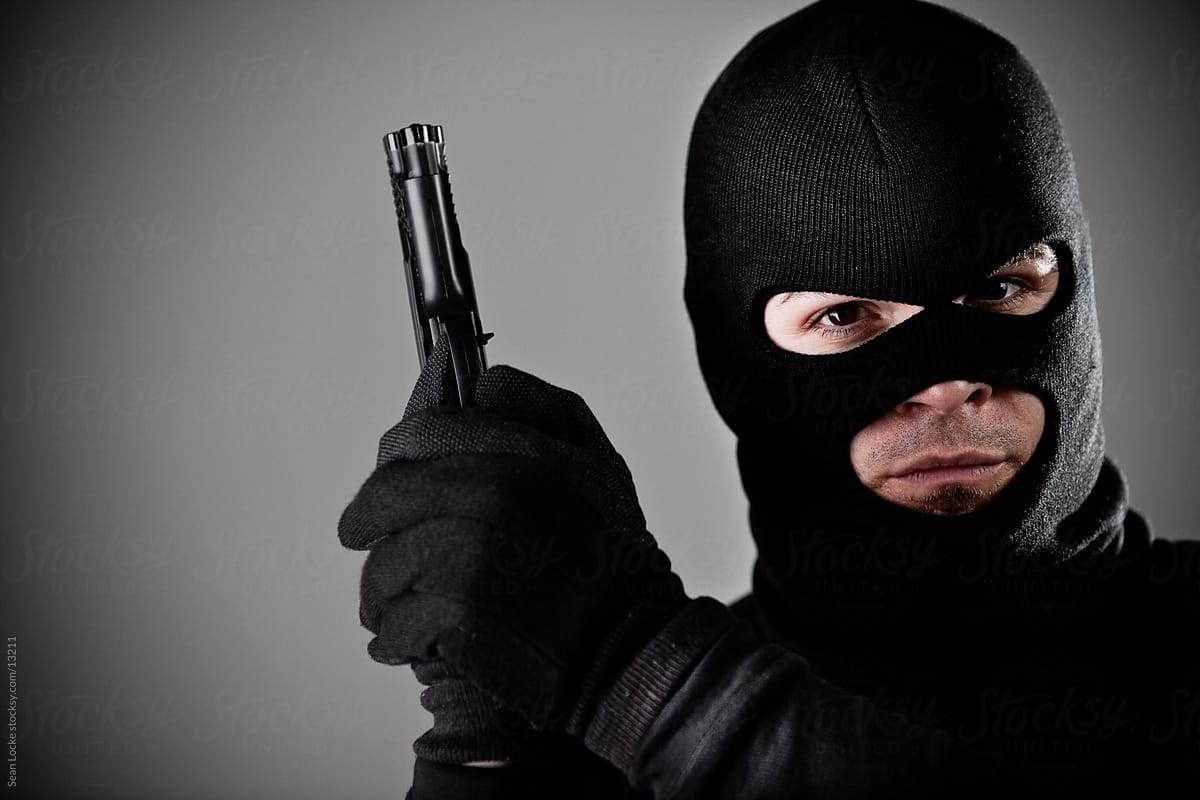thief: (319, 1, 1124, 734), (658, 2, 1124, 564)
weapon: (362, 106, 534, 411)
